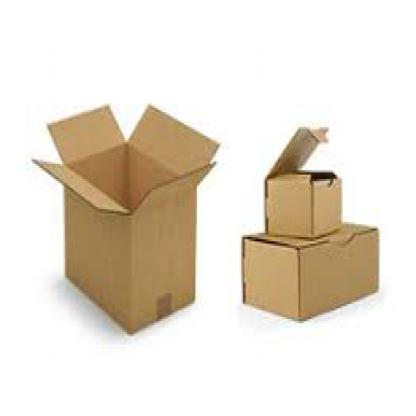CARDBOARD: (31, 104, 218, 334), (240, 222, 378, 319), (260, 125, 340, 239)
